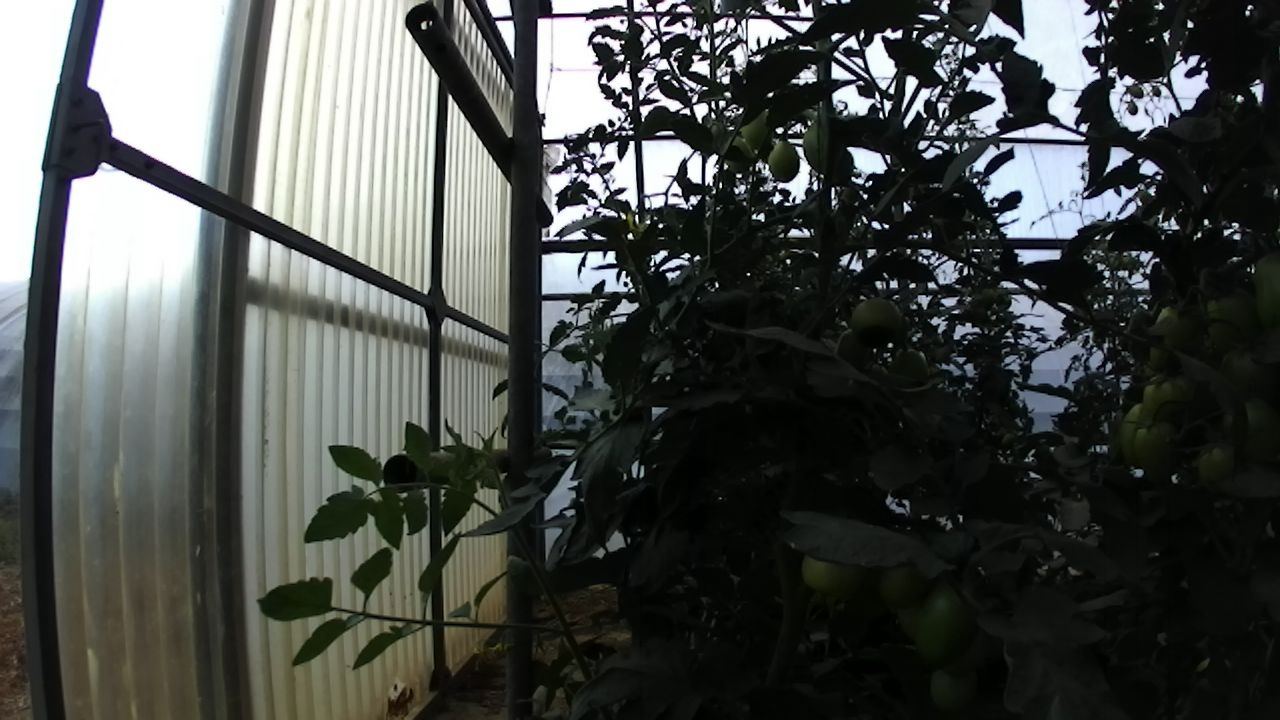tomato: (893, 579, 997, 675), (1132, 357, 1201, 433), (1186, 438, 1256, 500), (791, 540, 860, 602), (845, 291, 914, 352), (759, 123, 809, 193), (796, 108, 845, 177), (1126, 414, 1183, 473), (733, 101, 780, 155), (717, 132, 761, 178)
